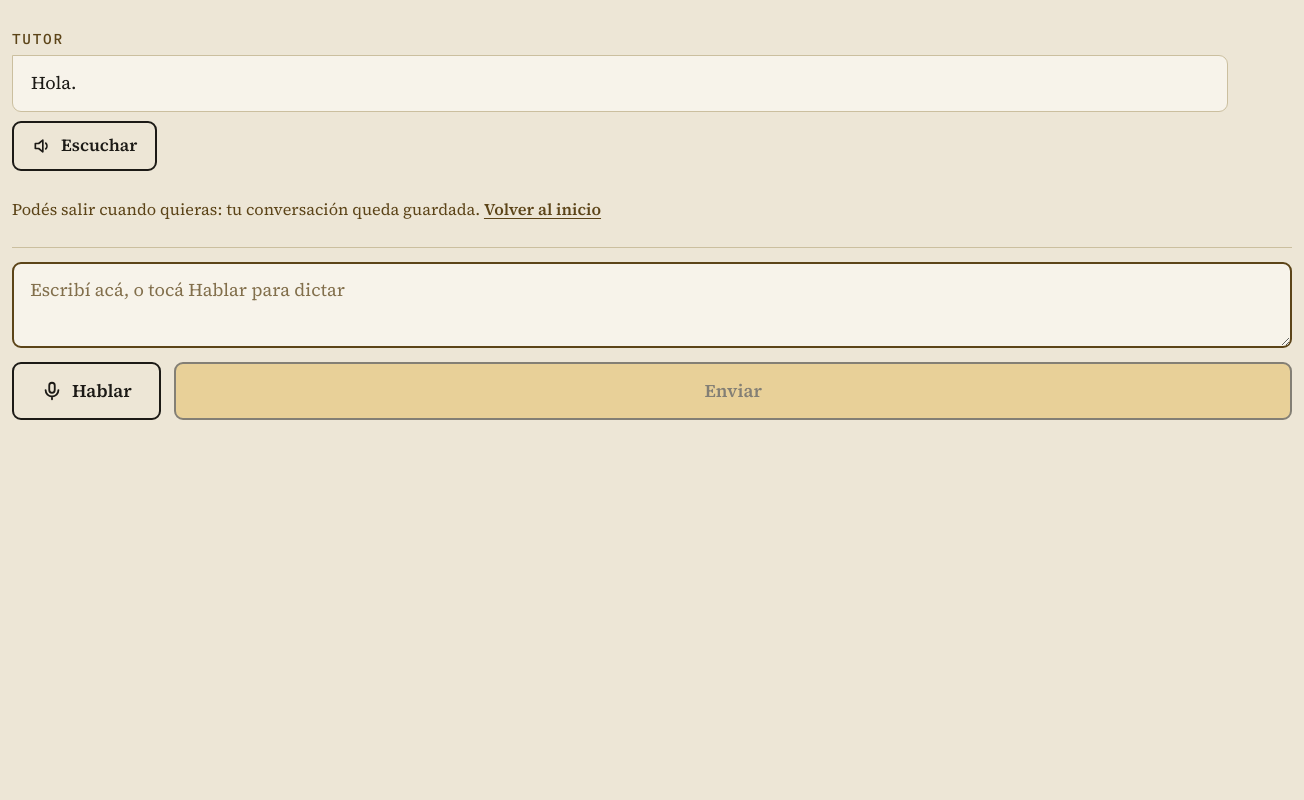
Scenario: Chat › si el stream se corta sin "fin" después de un 200, Reintentar manda texto vacío
The width and height of the screenshot is (1304, 800).
Check: the text "Hola." is shown, box [31,70,76,95]
Step 1. Type "Hola, tutor" into the text box named "tu mensaje" → (652, 305), box [12,262,1292,348]
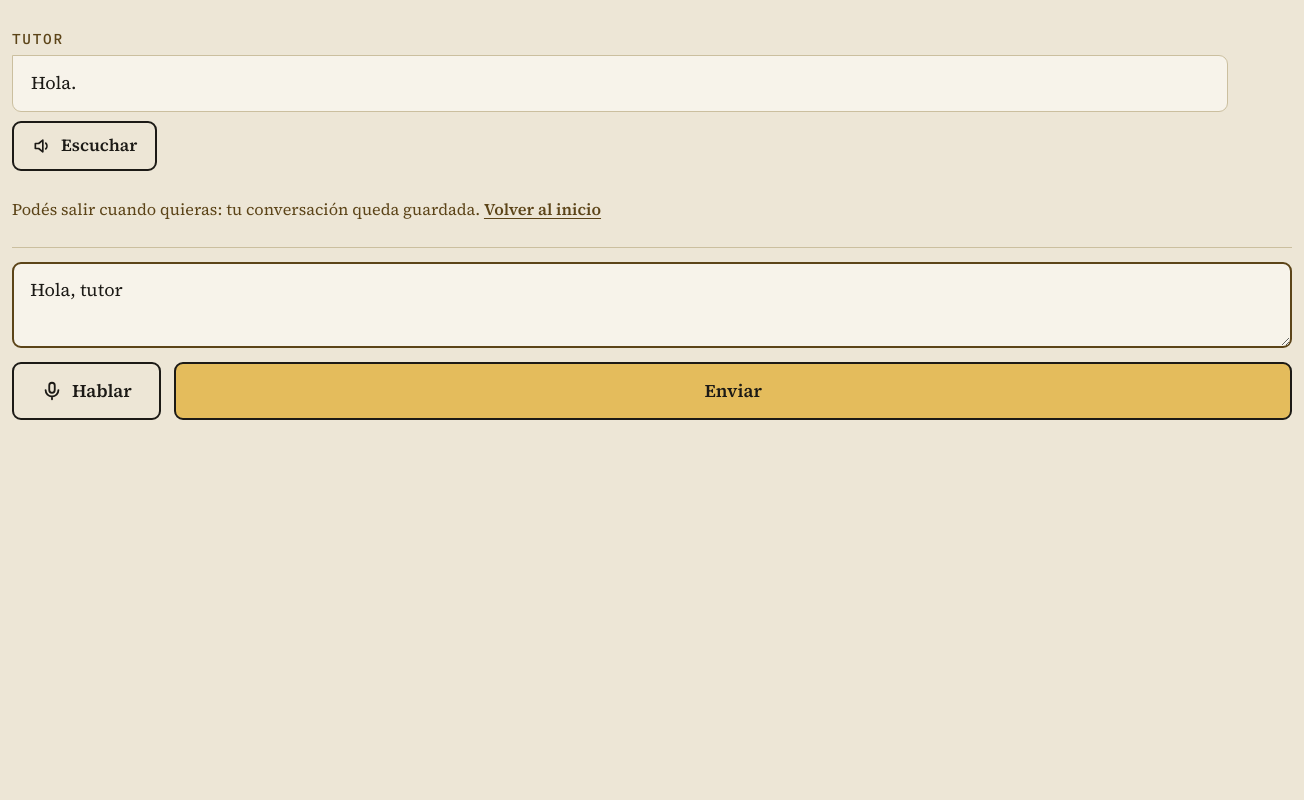
Step 2. Click the button "Enviar" → (733, 391), box [174,362,1292,420]
(page scrolled)
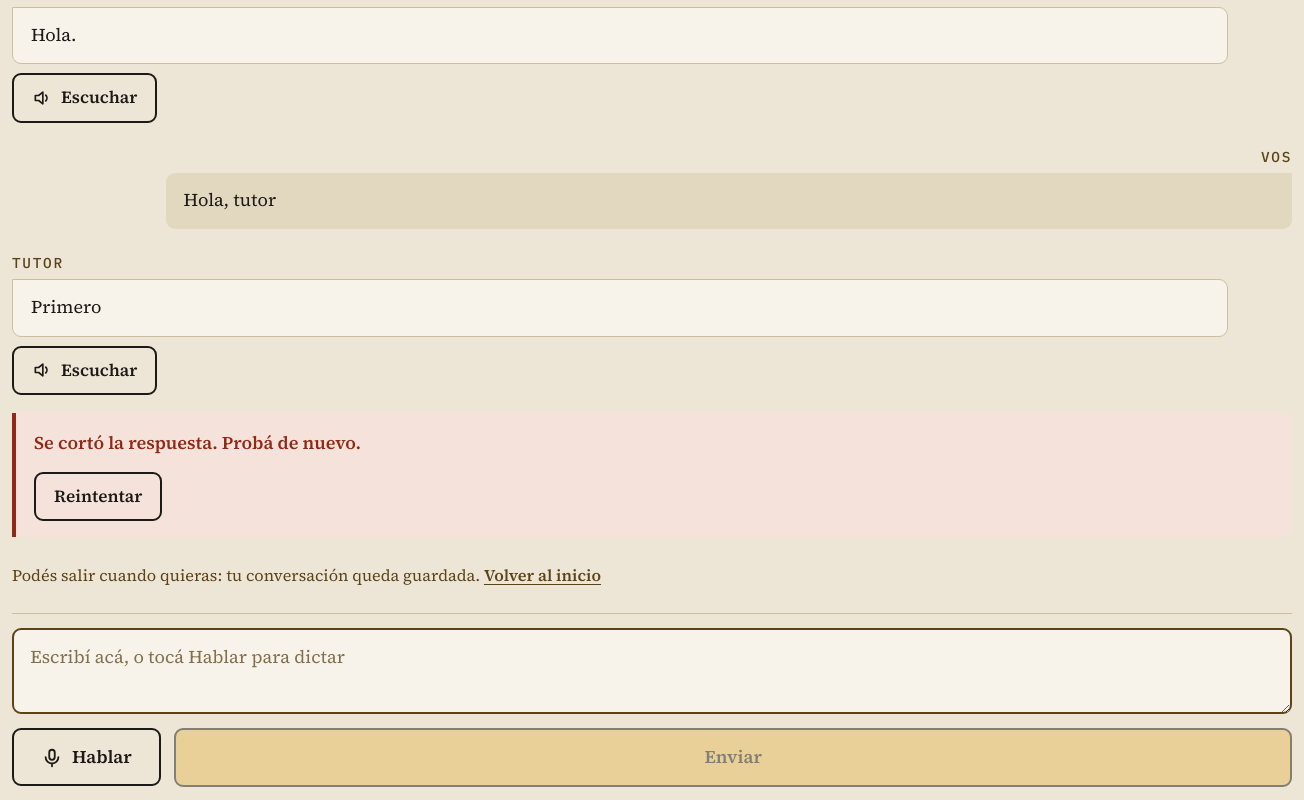
Check: the text "Se cortó la respuesta. Probá de nuevo." is shown, box [34,430,361,455]
Step 3. Click the button "Reintentar" → (98, 496), box [34,472,162,521]
(page scrolled)
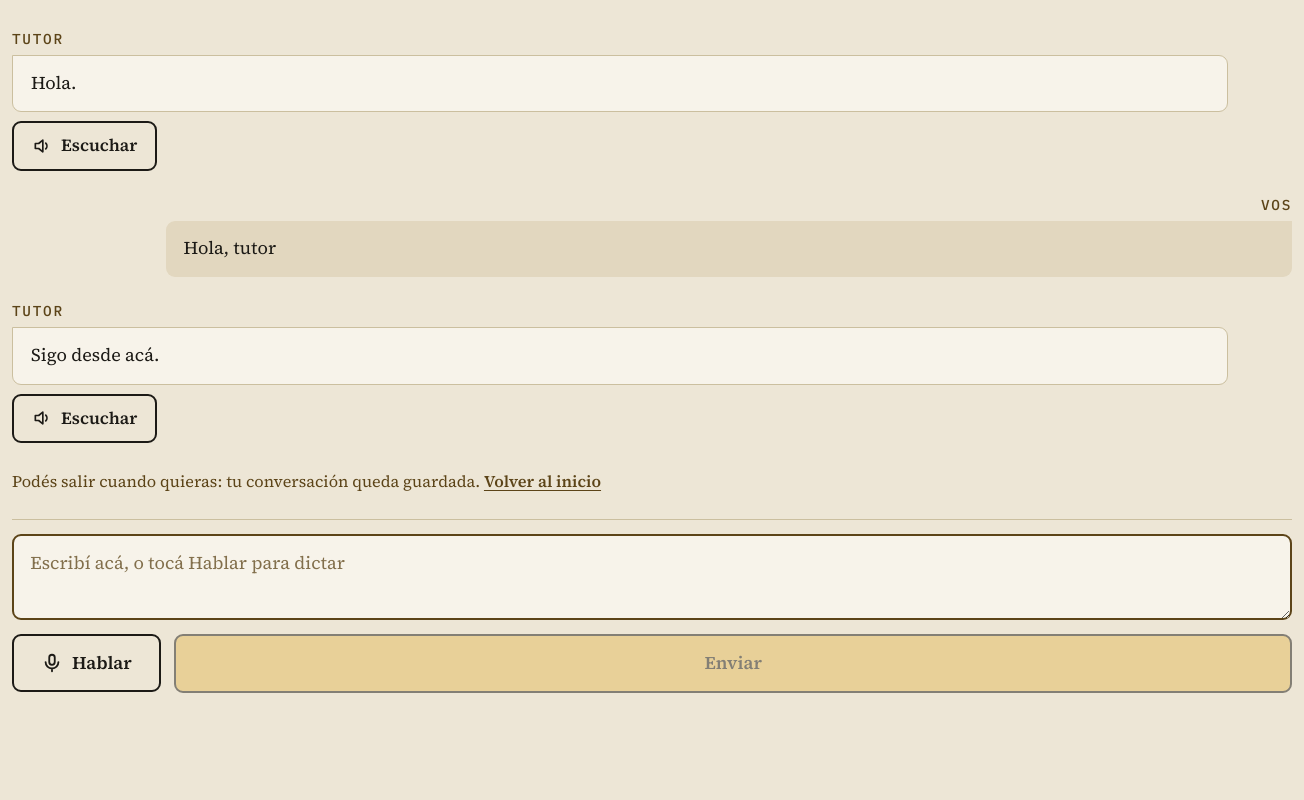
Check: the text "Sigo desde acá." is shown, box [31,342,159,367]
